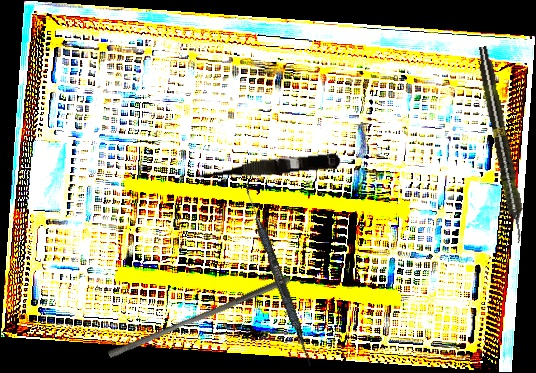Handpiece: (474, 45, 529, 244)
Micro Scissor: (189, 149, 342, 184)
Pusher: (107, 268, 291, 365)
Spatula Surgical: (238, 181, 318, 368)
